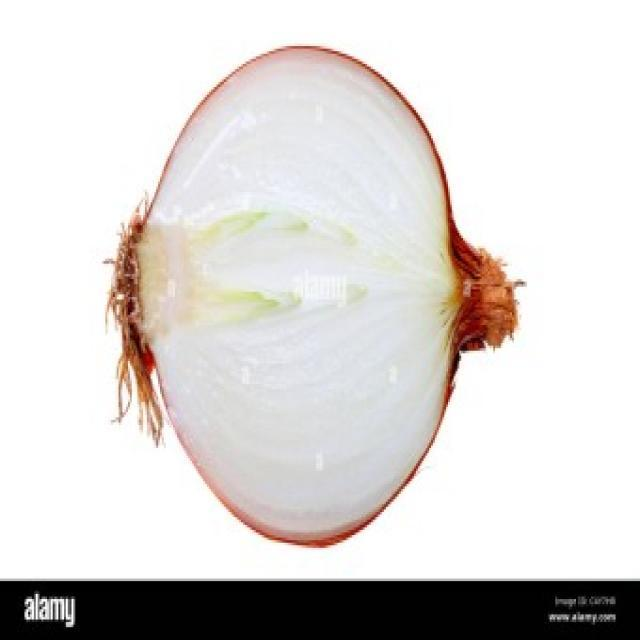onion: (90, 31, 550, 576)
